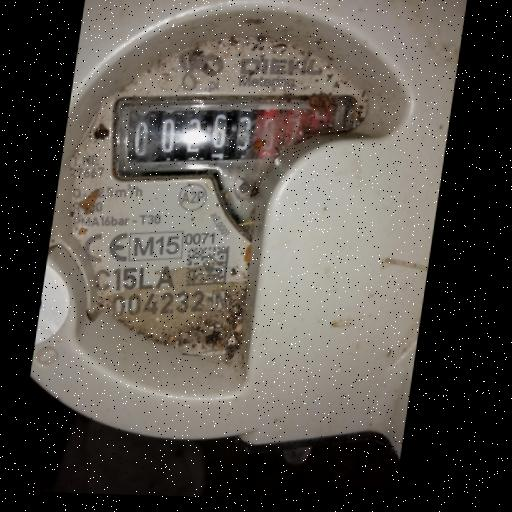0: (126, 108, 157, 165), (155, 108, 182, 164)
2: (181, 109, 206, 163)
3: (232, 108, 255, 161)
6: (207, 108, 232, 163)
7: (282, 108, 306, 151)
8: (256, 108, 281, 160)
border_water_meter_number: (111, 80, 353, 194)
